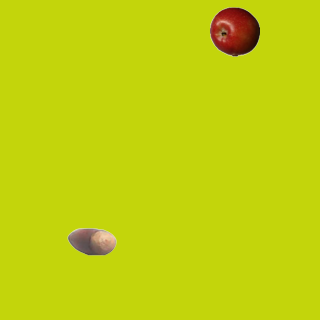Apple Braeburn: (209, 6, 259, 56)
Hazelnut: (66, 216, 116, 266)
